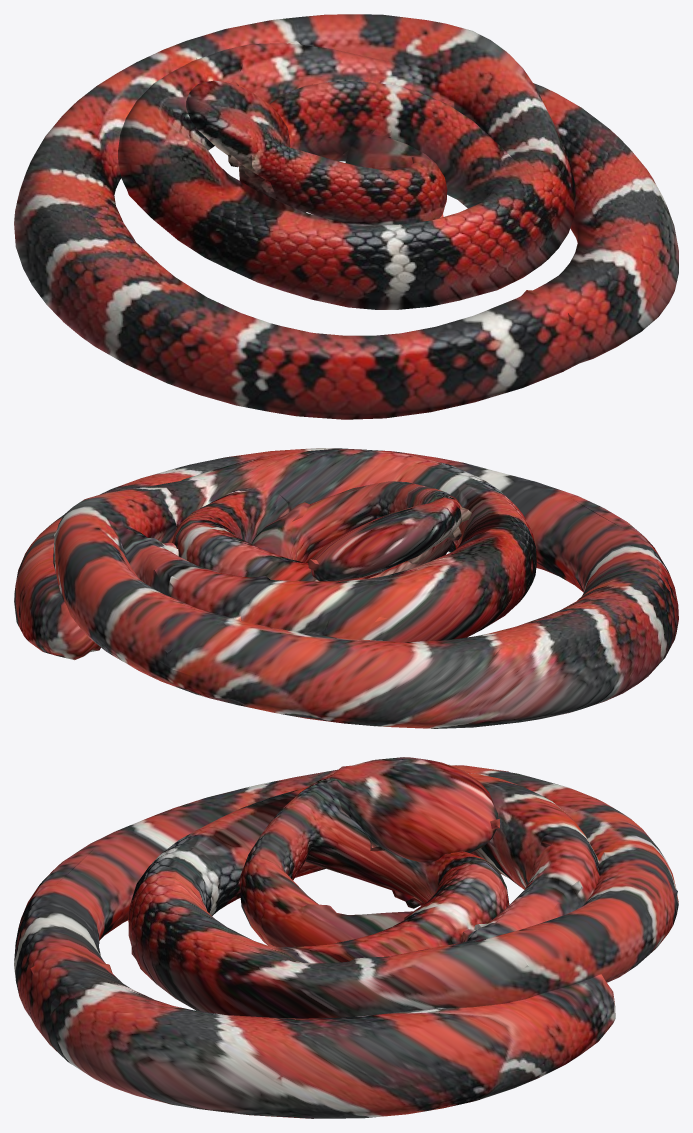
The model's file is cobra-coral-512.glb.
The picture shows the model from 3 angles, top to bottom: view 1: azimuth 30°, elevation 25°; view 2: azimuth 150°, elevation 25°; view 3: azimuth 270°, elevation 25°; orthographic projection. The views are drawn at different scales.
Parts seen in each view (by area): view 1: cobra-coral; view 2: cobra-coral; view 3: cobra-coral.
Boxes of the visible parts, x1,y1,x2,y2 form: cobra-coral: (14, 14, 678, 419); cobra-coral: (14, 448, 678, 728); cobra-coral: (14, 757, 678, 1118).
Bounding box in the file's own units: 0.3 × 0.0946 × 0.298.
Materials: 1 (1 with a texture image).
